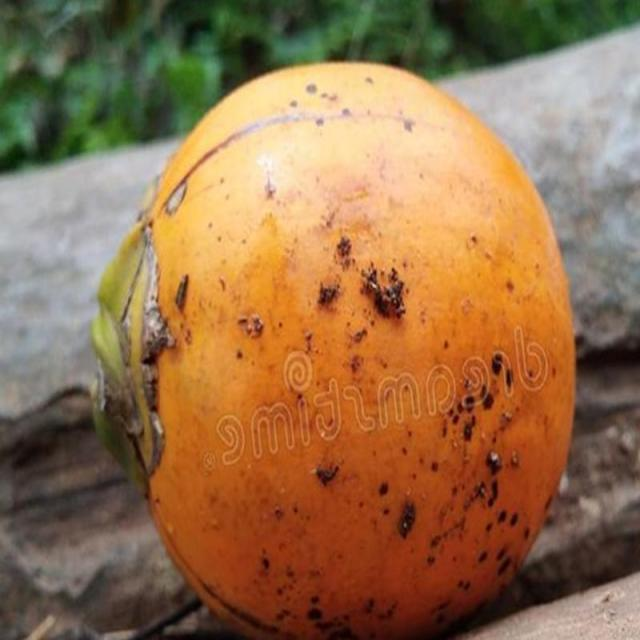good: (88, 63, 578, 639)
